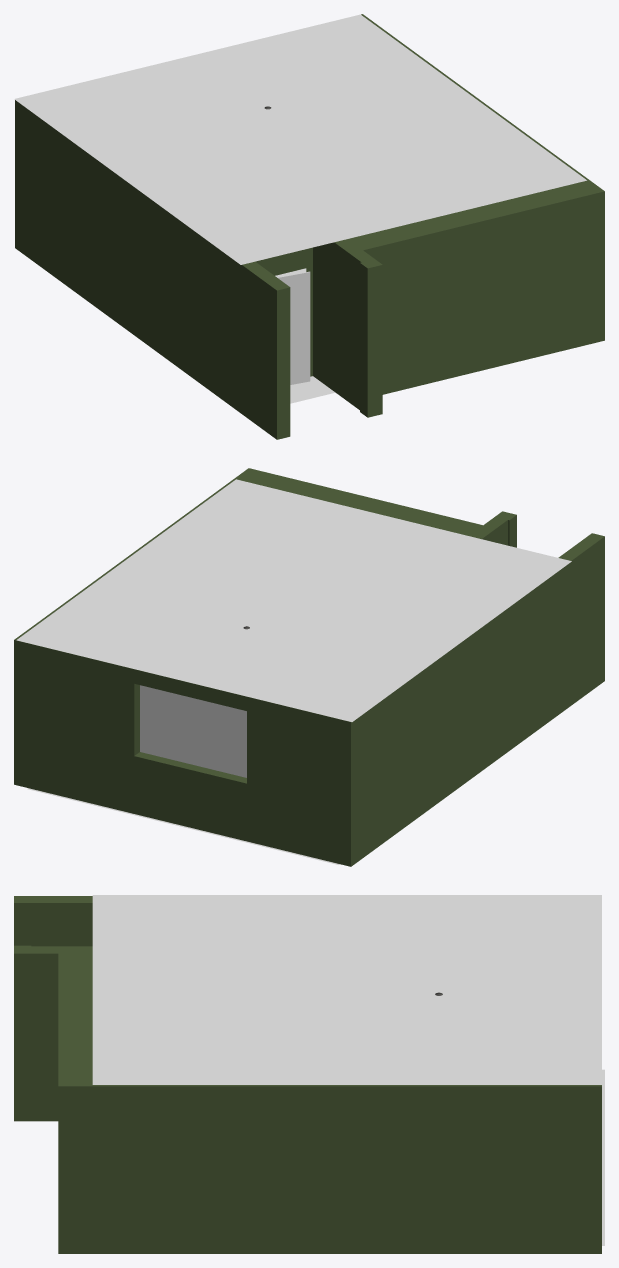
File: furniturtodo.fbx
The picture shows the model from 3 angles, top to bottom: view 1: azimuth 30°, elevation 25°; view 2: azimuth 150°, elevation 25°; view 3: azimuth 270°, elevation 25°; orthographic projection. The views are drawn at different scales.
Visible parts, largest first — view 1: Plane.008, Plane.001, door, Plane; view 2: Plane.008, Plane.001, Plane; view 3: Plane.008, Plane.001, Plane.
Boxes of the visible parts, x1,y1,x2,y2 form: Plane.008: (15,14,604,439); Plane.001: (14,14,586,264); door: (277,271,310,384); Plane: (290,376,334,403); Plane.008: (14,468,604,866); Plane.001: (16,479,571,721); Plane: (27,788,339,864); Plane.008: (14,896,601,1253); Plane.001: (92,895,601,1084); Plane: (602,1069,604,1245).
Size of the model in its own units: 3668 by 1510 by 4793.
